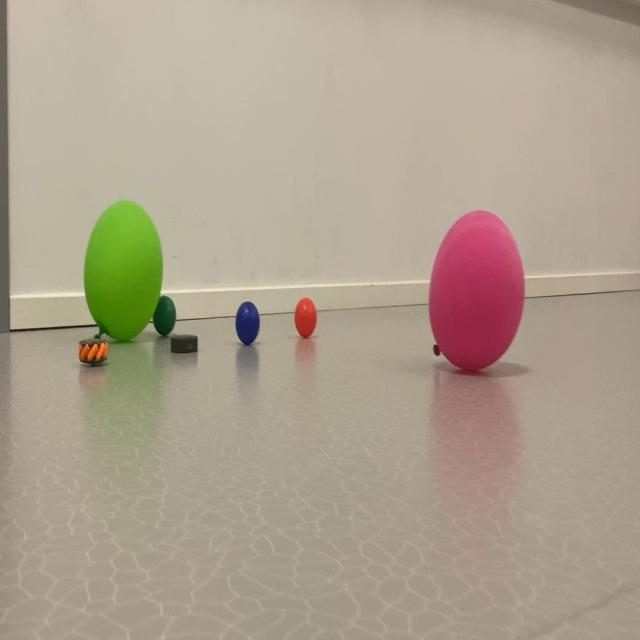6: (220, 272, 327, 376)
7: (284, 289, 320, 348)
green ball: (223, 282, 261, 351)
red ball: (151, 286, 179, 339)
